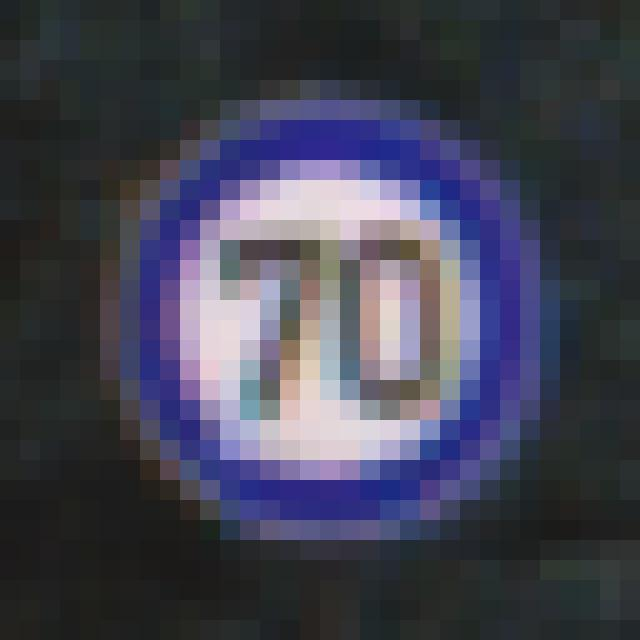SPEED LIMIT 70: (112, 105, 524, 535)
